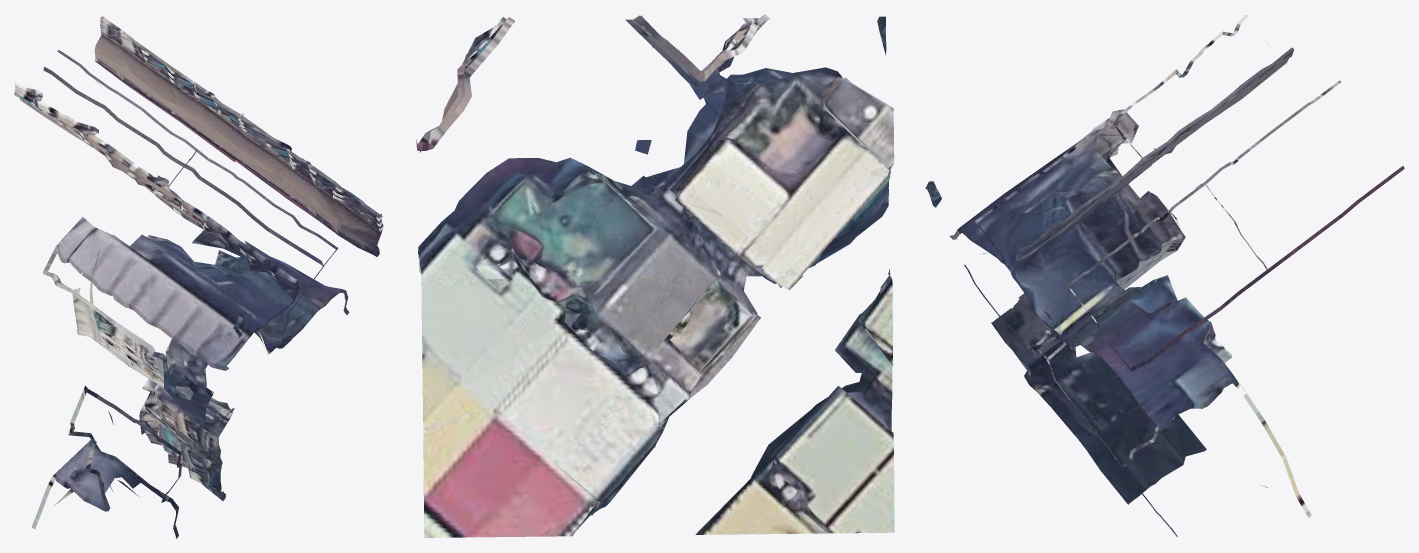
The picture shows the model from 3 angles, left to right: view 1: azimuth 30°, elevation 25°; view 2: azimuth 150°, elevation 25°; view 3: azimuth 270°, elevation 25°; orthographic projection. The views are drawn at different scales.
Bounding box in the file's own units: 41.44 × 50.45 × 49.69.
Materials: 1 (1 with a texture image).
